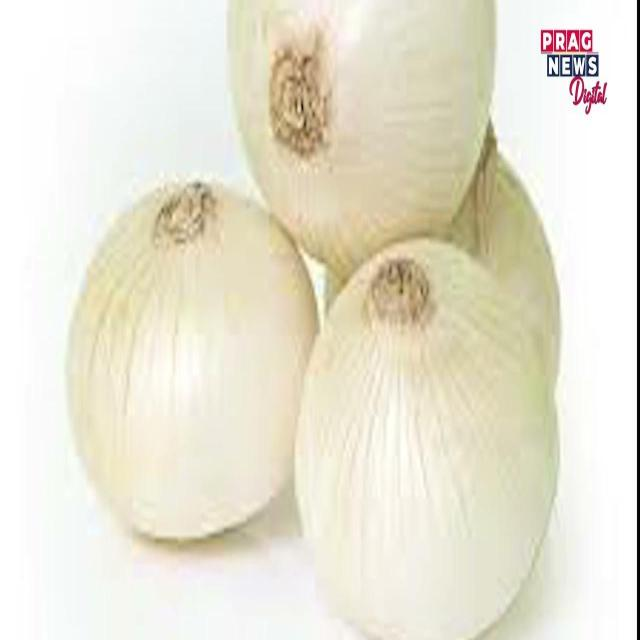Onion: (49, 59, 331, 545), (290, 232, 564, 640), (224, 0, 503, 268), (445, 121, 581, 392)
